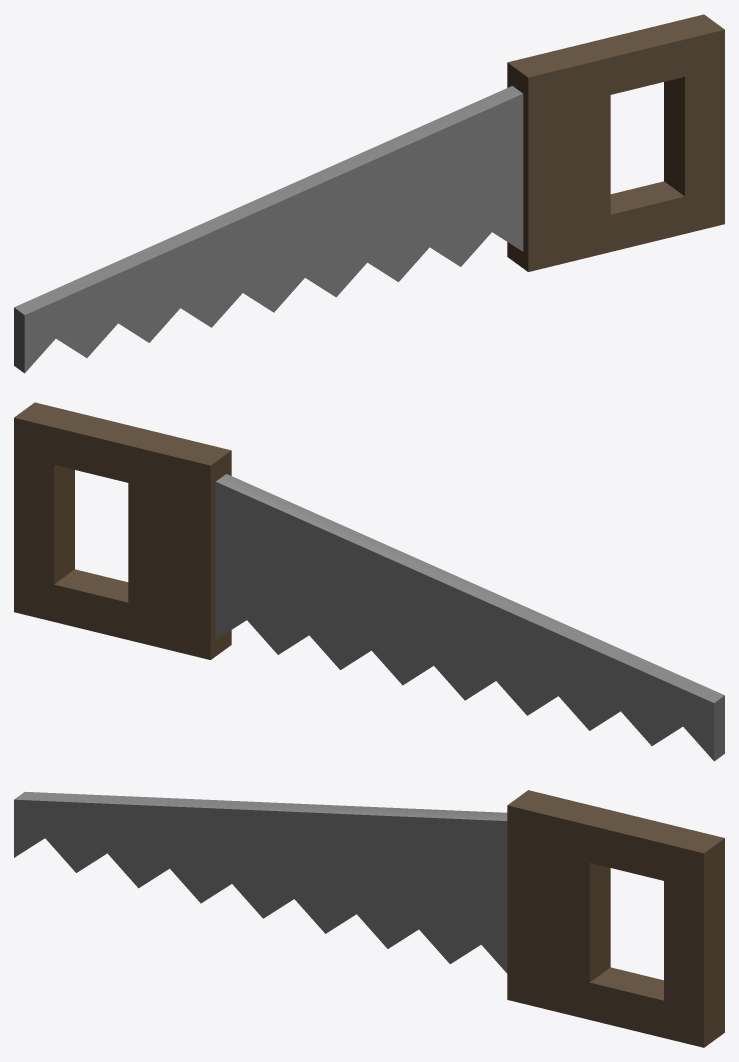
The model's file is SD_Prop_Tool_Saw_01.fbx.
The picture shows the model from 3 angles, top to bottom: view 1: azimuth 30°, elevation 25°; view 2: azimuth 150°, elevation 25°; view 3: azimuth 330°, elevation 25°; orthographic projection.
Parts seen in each view (by area): view 1: SD_Prop_Tool_Saw_01; view 2: SD_Prop_Tool_Saw_01; view 3: SD_Prop_Tool_Saw_01.
Boxes of the visible parts, <box> form: SD_Prop_Tool_Saw_01: <box>14,14,724,373</box>; SD_Prop_Tool_Saw_01: <box>14,402,724,761</box>; SD_Prop_Tool_Saw_01: <box>14,790,724,1047</box>.
Bounding box in the file's own units: 1.66 × 0.4445 × 0.0864.
